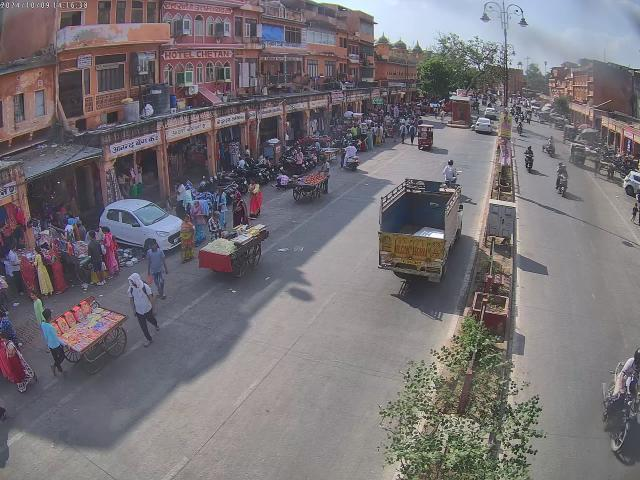auto: (415, 123, 435, 151), (569, 141, 589, 166)
car: (100, 196, 183, 254), (622, 168, 640, 198), (470, 117, 496, 134)
helmet: (445, 159, 455, 167)
license_plate: (400, 258, 420, 266)
lorry: (374, 179, 465, 284)
motorbike: (302, 154, 317, 170)
motorbike-rider: (601, 345, 640, 460), (441, 160, 461, 192), (523, 144, 535, 172)
person: (0, 333, 35, 392), (130, 275, 159, 342), (175, 179, 195, 212), (248, 184, 264, 218), (128, 180, 146, 198)
scooty-rider: (555, 162, 569, 196), (342, 148, 359, 172), (274, 169, 290, 189), (542, 138, 556, 156)
vendor: (42, 296, 130, 374), (196, 210, 271, 280), (292, 170, 329, 204)
